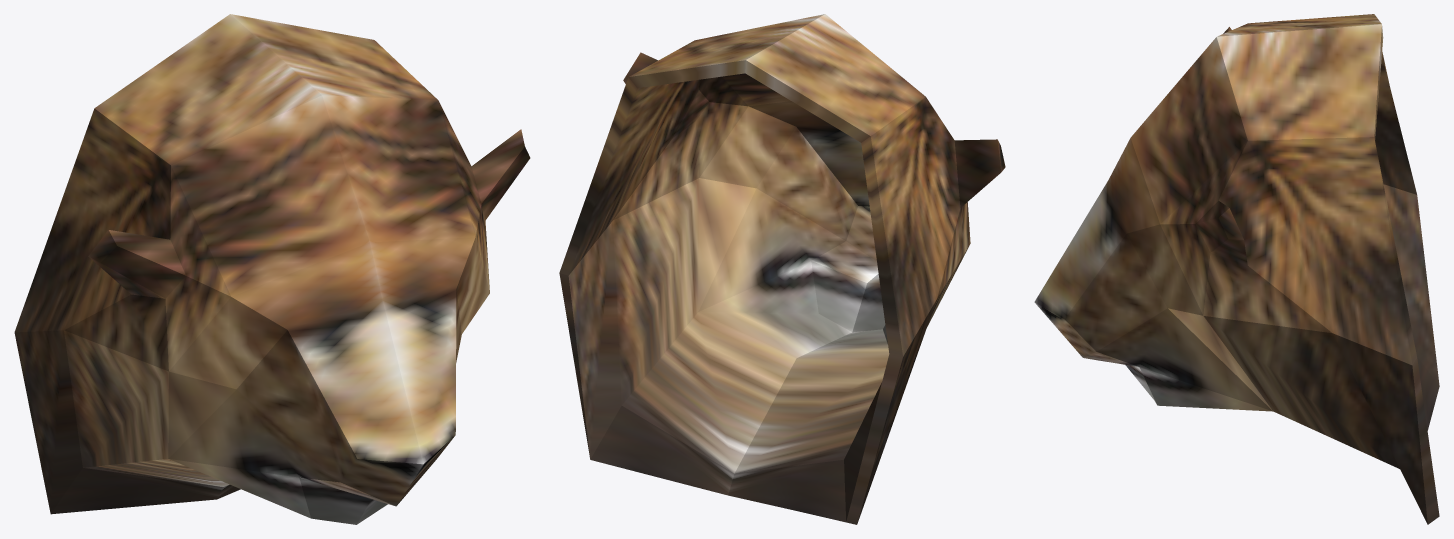
Rendered from MaskLion.fbx.
3 views of the same model, side by side, from view 1: azimuth 30°, elevation 25°; view 2: azimuth 150°, elevation 25°; view 3: azimuth 270°, elevation 25° (orthographic). The views are drawn at different scales.
Visible parts, largest first — view 1: MaskLion; view 2: MaskLion; view 3: MaskLion.
Part boxes in pixels (bbox=[...]): MaskLion: bbox=[14, 14, 530, 524]; MaskLion: bbox=[559, 14, 1005, 524]; MaskLion: bbox=[1034, 14, 1439, 524].
Size of the model in its own units: 0.2006 by 0.2171 by 0.1789.
